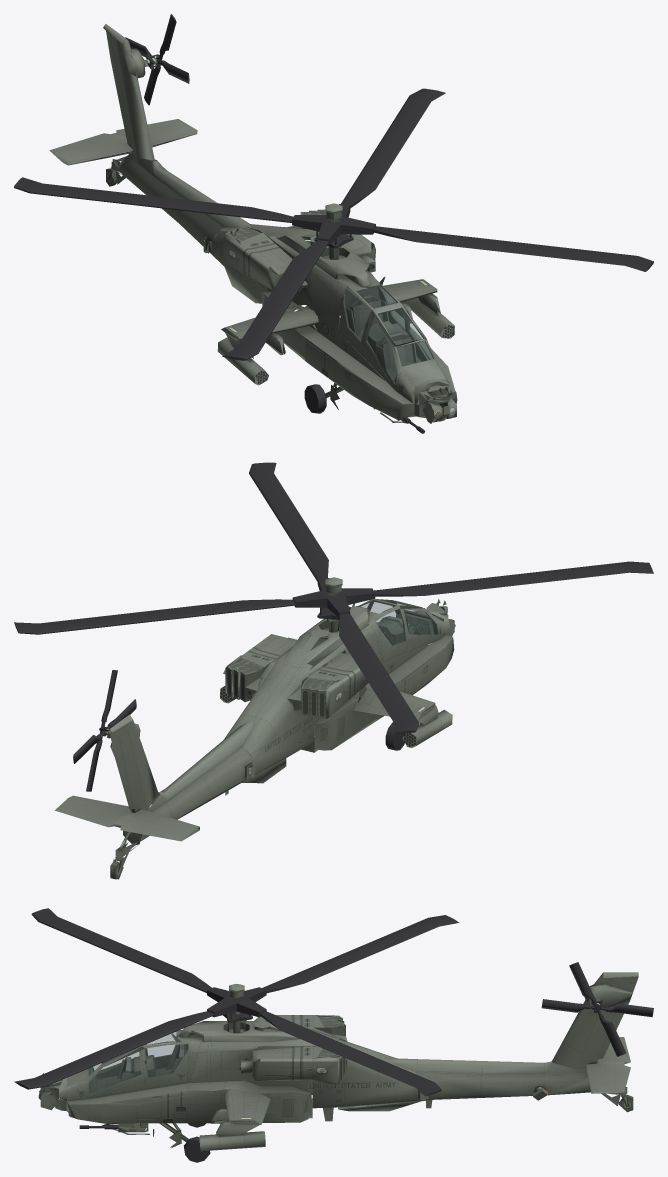
File: apache-araon-salvia-black.glb
The picture shows the model from 3 angles, top to bottom: view 1: azimuth 30°, elevation 25°; view 2: azimuth 150°, elevation 25°; view 3: azimuth 270°, elevation 25°; orthographic projection. The views are drawn at different scales.
Visible parts, largest first — view 1: hull, main_rotor, cockpit, glass, tail_rotor; view 2: hull, main_rotor, glass, cockpit, tail_rotor; view 3: hull, main_rotor, glass, cockpit, tail_rotor.
Part boxes in pixels (x1,y1,x2,y2): hull: (49,24,457,433); main_rotor: (14,88,653,360); cockpit: (343,285,433,384); glass: (343,285,433,384); tail_rotor: (125,14,189,105); hull: (55,577,455,879); main_rotor: (14,462,653,733); glass: (360,600,438,645); cockpit: (342,599,438,653); tail_rotor: (73,670,136,791); hull: (38,972,638,1162); main_rotor: (14,908,459,1096); glass: (89,1032,187,1093); cockpit: (88,1031,188,1093); tail_rotor: (541,962,653,1056).
Bounding box in the file's own units: 11.18 × 5.39 × 16.06.
Materials: 3 (1 with a texture image).
